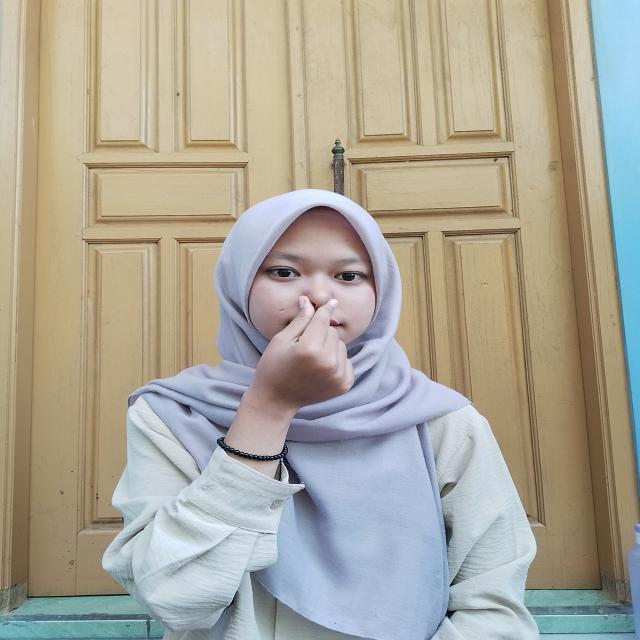bau: (260, 288, 369, 415)
